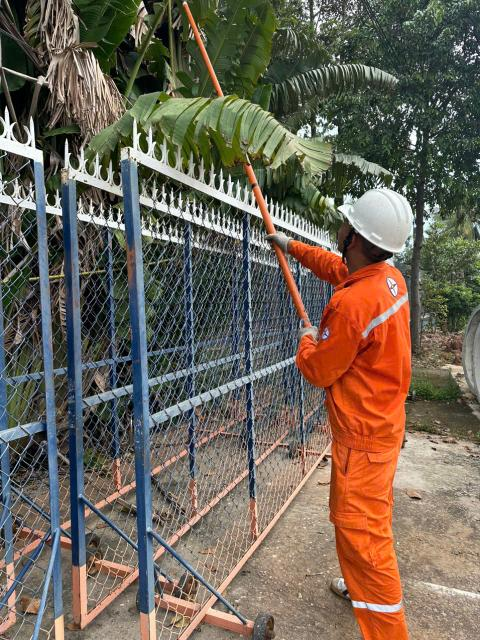gloves: (285, 310, 324, 351), (256, 224, 298, 256)
helmet: (337, 178, 434, 260)
shoes: (325, 569, 384, 610)
